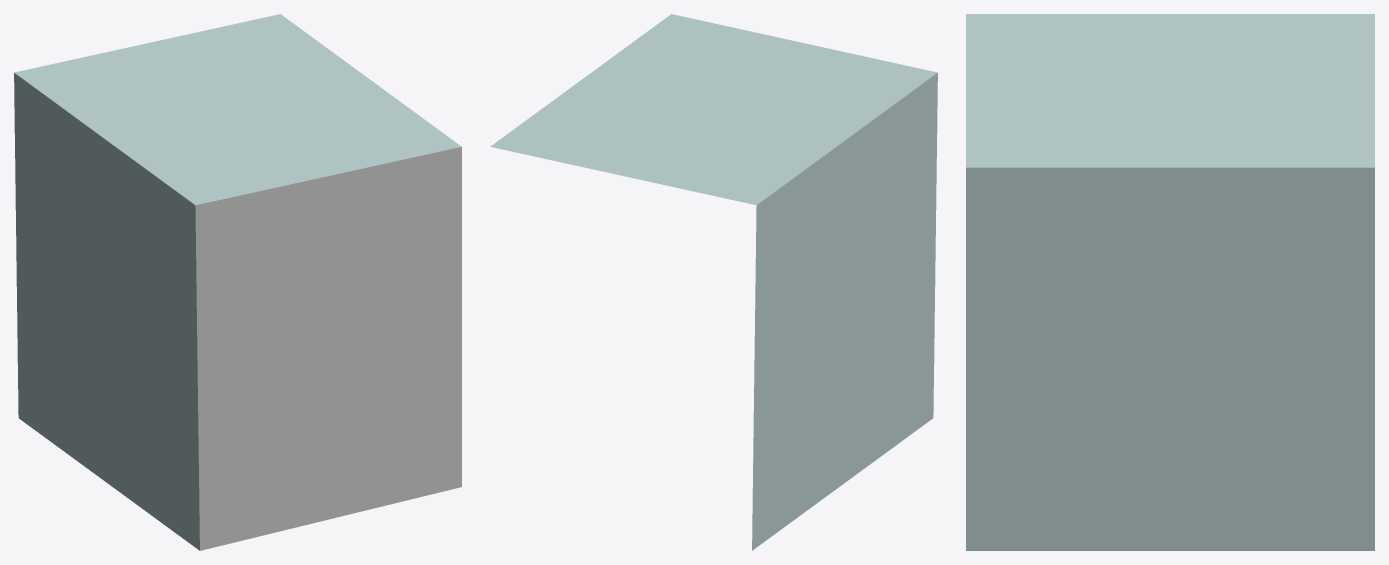
The picture shows the model from 3 angles, left to right: view 1: azimuth 30°, elevation 25°; view 2: azimuth 150°, elevation 25°; view 3: azimuth 270°, elevation 25°; orthographic projection. The views are drawn at different scales.
Parts seen in each view (by area): view 1: 0_2_3_2_2_2_1_3_3; view 2: 0_2_3_2_2_2_1_3_3; view 3: 0_2_3_2_2_2_1_3_3.
Part boxes in pixels (box(x1,y1,x2,y2)): 0_2_3_2_2_2_1_3_3: box(14, 14, 461, 550); 0_2_3_2_2_2_1_3_3: box(490, 14, 937, 550); 0_2_3_2_2_2_1_3_3: box(966, 14, 1374, 550).
Size of the model in its own units: 2.54 by 3.16 by 3.
